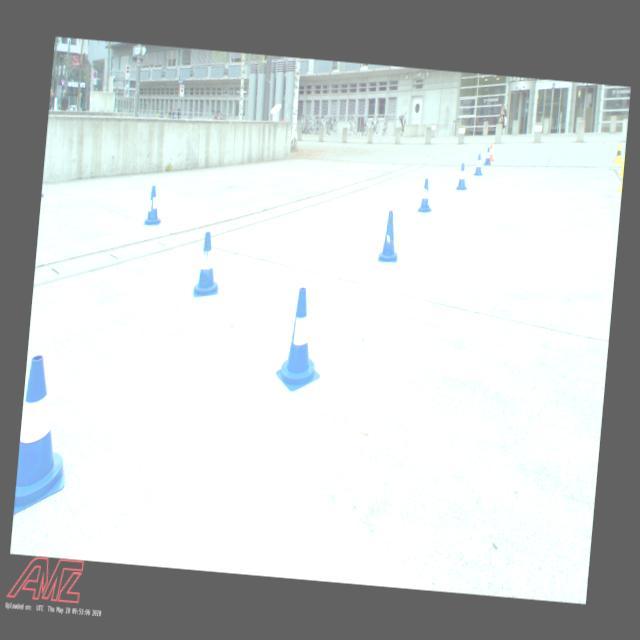blue_cone: (14, 354, 76, 520), (274, 286, 328, 394), (192, 230, 224, 300), (378, 209, 402, 263), (142, 184, 165, 226), (416, 178, 435, 212), (454, 162, 469, 190), (472, 152, 484, 175), (483, 146, 492, 164)
orange_cone: (488, 144, 495, 162)
yellow_cone: (612, 144, 624, 164)
